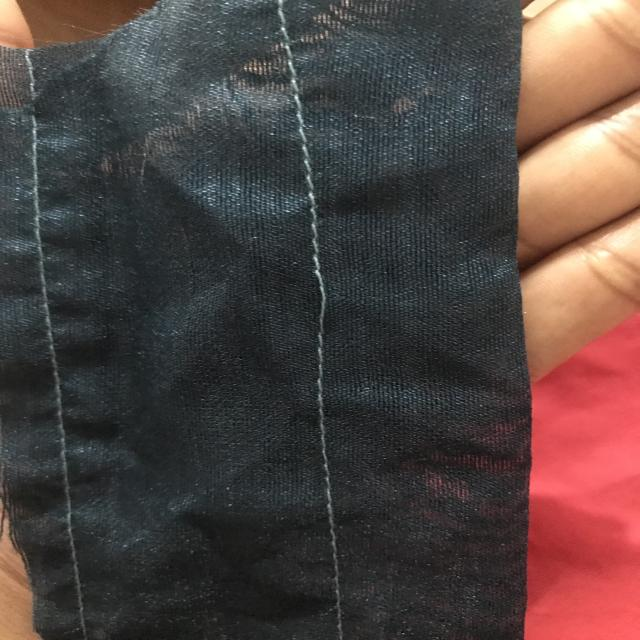good: (301, 428, 350, 528)
skip: (284, 254, 355, 365)
